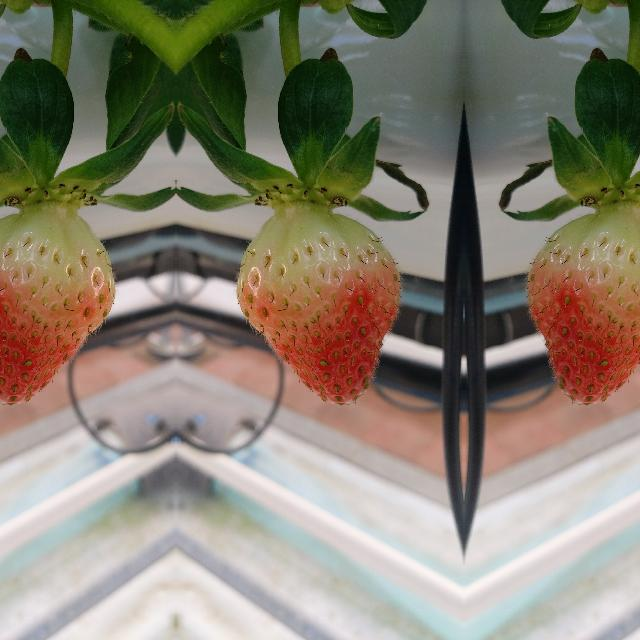Health_75: (233, 213, 401, 407), (0, 213, 117, 407), (525, 213, 640, 407)
